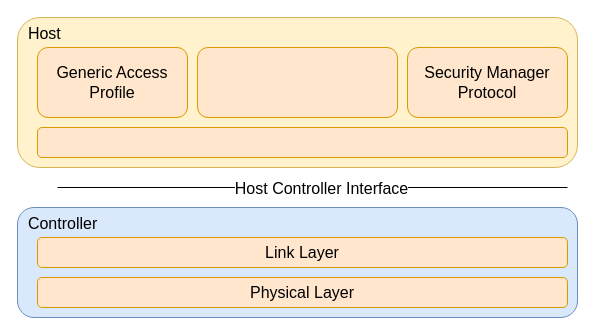
This 595x335 diagram has some shape labels left out. Here are the shapes that lost their labels. From the top down, the centre of each, then its label:
At point (297, 82): "Generic Attribute Profile / Attribute Protocol".
At point (302, 142): "Logical Link Control and Adaption Protocol".
